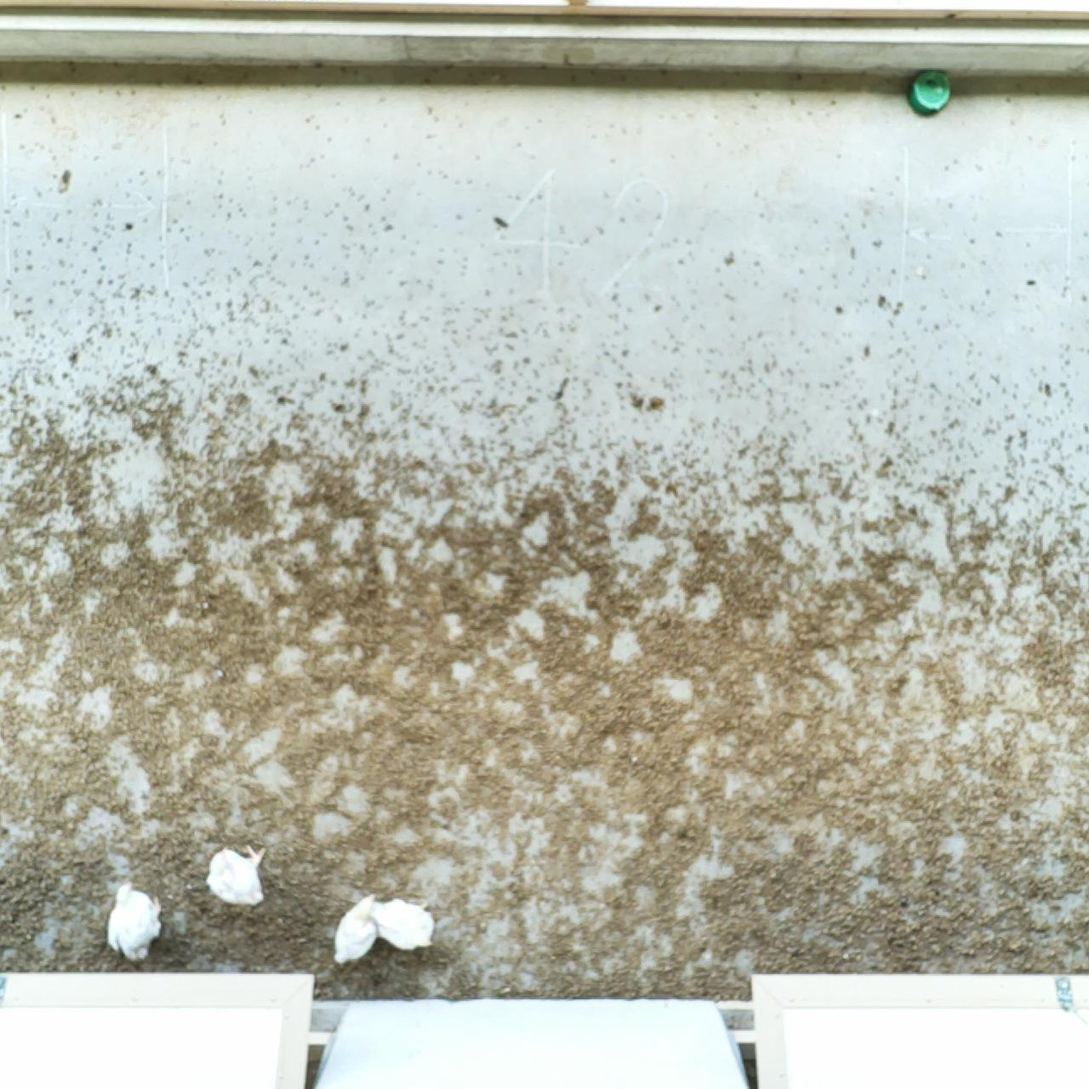chicken: (104, 879, 167, 962), (202, 839, 271, 913), (370, 891, 442, 954), (326, 889, 384, 967)
